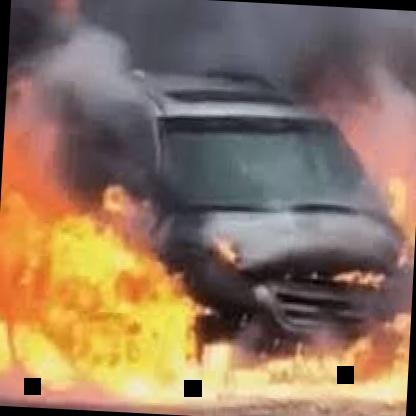fire: (0, 201, 224, 374)
